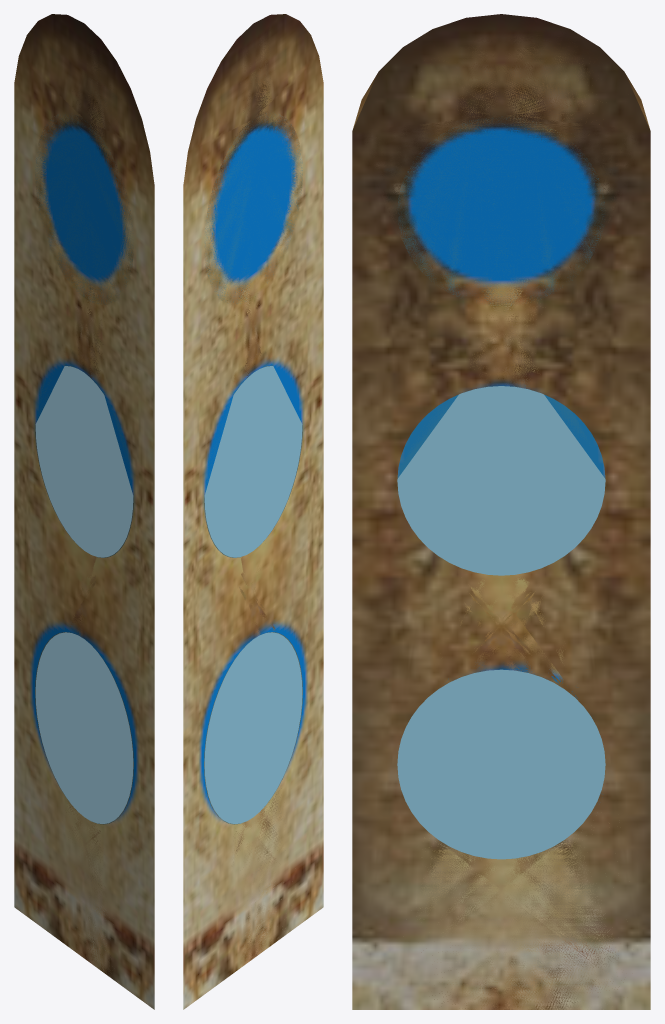
Rendered from WindowFrameX3.fbx.
3 renders of one model, left to right at view 1: azimuth 30°, elevation 25°; view 2: azimuth 150°, elevation 25°; view 3: azimuth 270°, elevation 25°, orthographic. The views are drawn at different scales.
Parts seen in each view (by area): view 1: WinowFreame.x3; view 2: WinowFreame.x3; view 3: WinowFreame.x3.
Boxes of the visible parts, box(x1,y1,x2,y2) form: WinowFreame.x3: box(14, 14, 154, 1009); WinowFreame.x3: box(183, 14, 323, 1009); WinowFreame.x3: box(352, 14, 650, 1009).
Size of the model in its own units: 1.17e-05 by 110 by 30.01.
